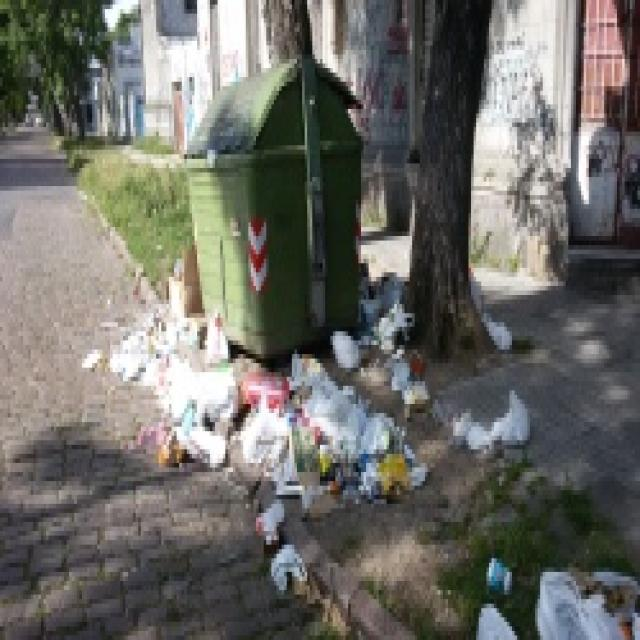garbage: (215, 345, 417, 490), (458, 526, 638, 636), (110, 304, 233, 463), (327, 266, 416, 381), (251, 488, 309, 608), (450, 380, 534, 461), (466, 262, 517, 362), (161, 239, 205, 317)
